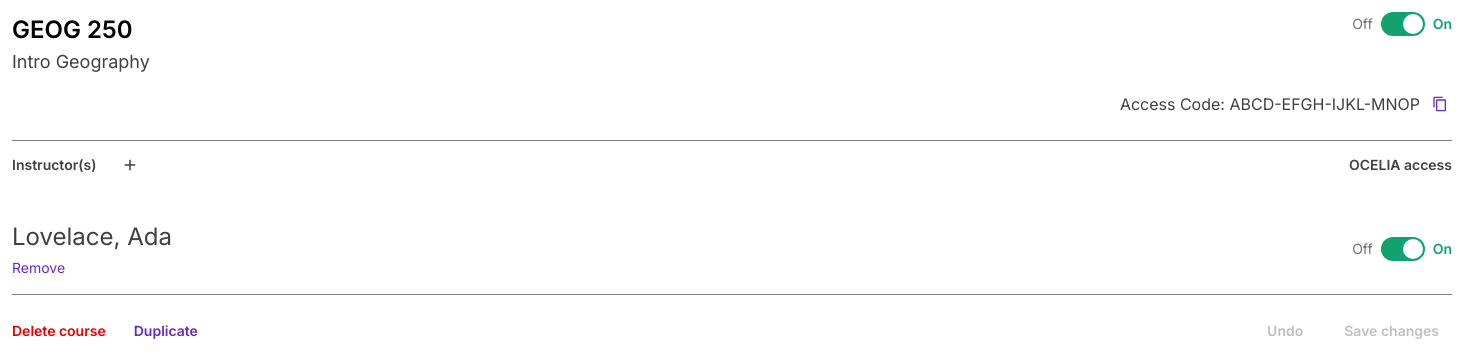
Scenario: CourseDetail (staged editing) › waits for the instructor-list refetch before clearing staged edits, so the toggle doesn't flip back
// Stage access OFF (server value is ON).
Click the switch named "OCELIA access for Lovelace, Ada" at x=1403, y=248, box [1381,236,1425,260]
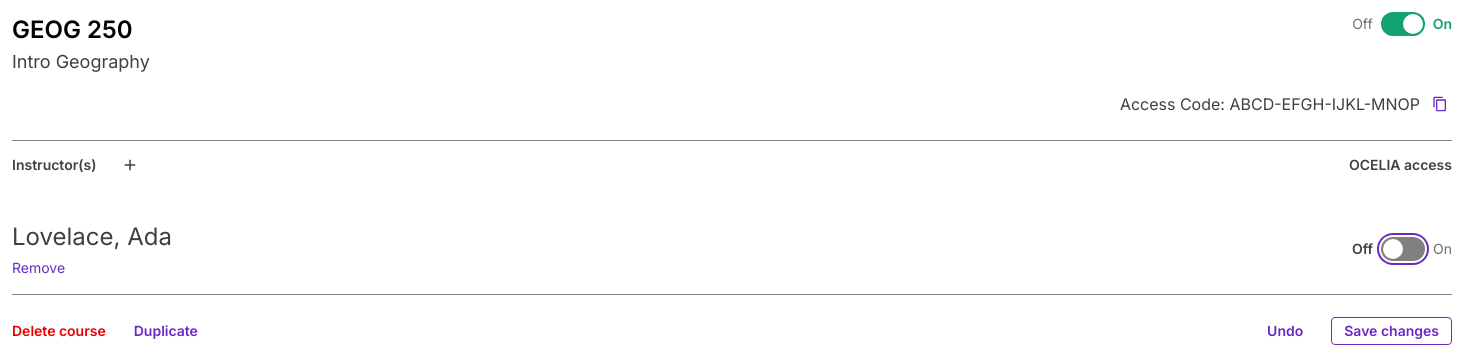
Expected: the switch named "OCELIA access for Lovelace, Ada" is not checked, [1381,236,1425,260]
Click the button "Save changes" at x=1392, y=331, box [1331,317,1452,345]
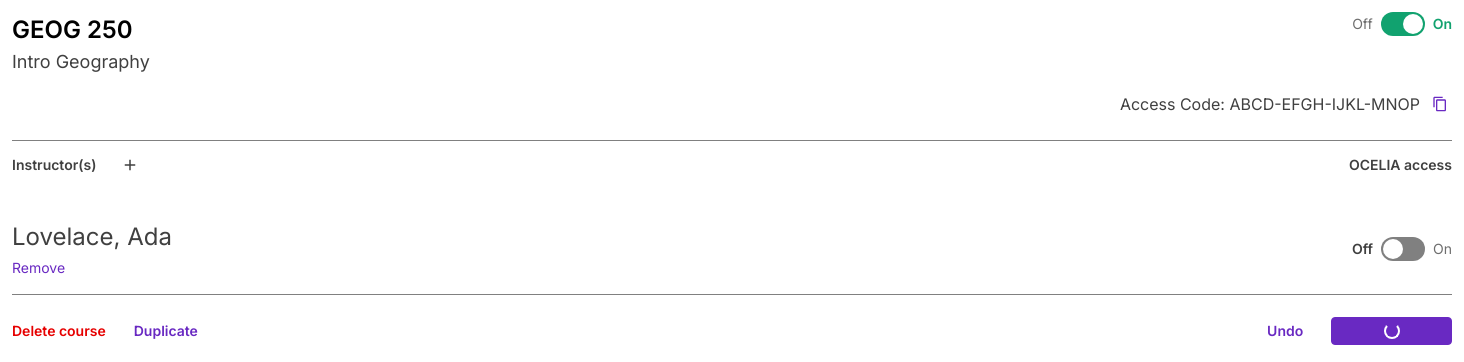
Expected: the button named "Save changes" is disabled, [1331,317,1452,345]
